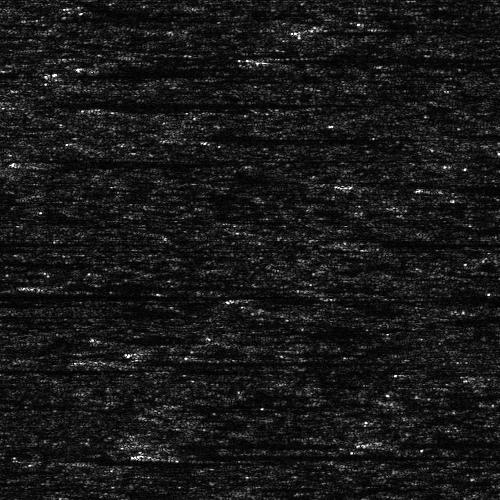rock: (77, 433, 222, 450), (163, 290, 298, 307), (49, 353, 174, 368), (114, 395, 207, 414), (243, 24, 348, 39), (319, 436, 424, 449), (140, 126, 213, 143), (216, 51, 289, 62), (0, 280, 82, 289), (9, 157, 72, 168), (303, 179, 396, 186), (37, 457, 120, 464), (367, 202, 430, 211), (467, 369, 500, 384), (399, 185, 452, 194), (0, 97, 45, 106), (128, 451, 181, 458), (329, 240, 392, 245), (74, 335, 115, 340), (0, 256, 18, 267)
shadow: (231, 290, 487, 307), (112, 353, 365, 368), (41, 280, 452, 289), (79, 457, 499, 464), (150, 433, 319, 450), (177, 126, 344, 143), (0, 97, 314, 106), (253, 51, 500, 62), (296, 24, 459, 39), (155, 451, 495, 458), (41, 157, 202, 168), (372, 436, 500, 449), (0, 256, 149, 267), (161, 395, 245, 414), (0, 289, 403, 292), (350, 179, 500, 186), (0, 305, 59, 322), (399, 202, 486, 211), (361, 240, 500, 245), (426, 185, 500, 194), (0, 237, 92, 244), (0, 364, 61, 371), (95, 335, 179, 340)
